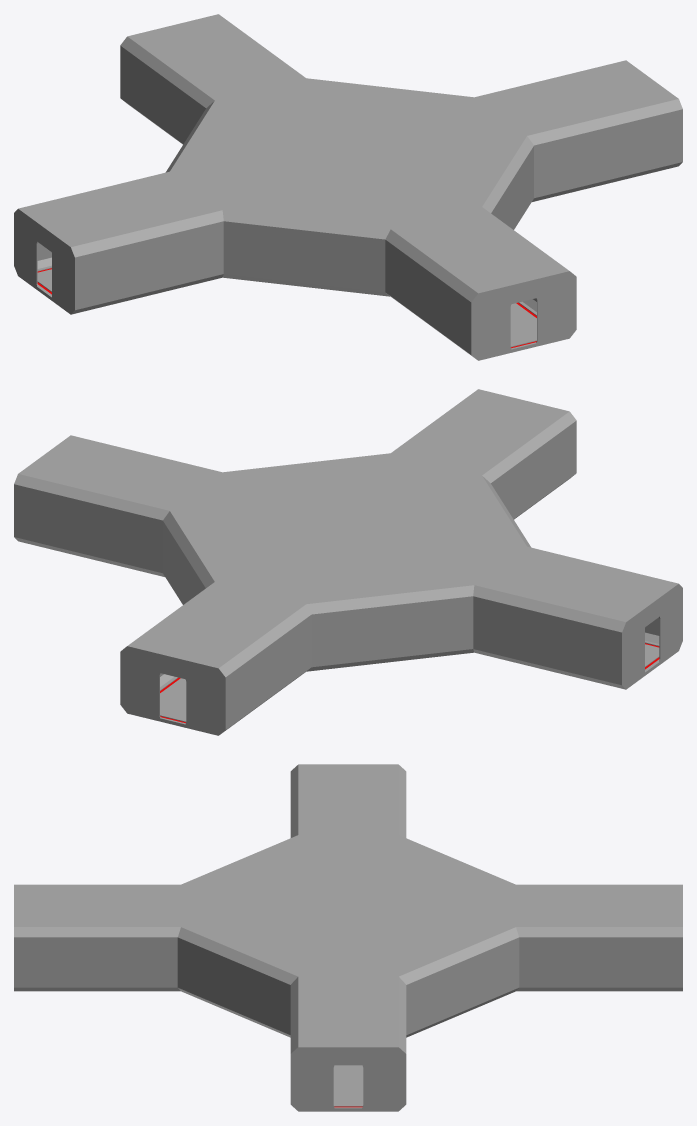
Rendered from HallwayCrossNESW.fbx.
3 renders of one model, top to bottom at view 1: azimuth 30°, elevation 25°; view 2: azimuth 150°, elevation 25°; view 3: azimuth 270°, elevation 25°, orthographic. The views are drawn at different scales.
Parts seen in each view (by area): view 1: HallwayCross; view 2: HallwayCross; view 3: HallwayCross.
Boxes of the visible parts, x1,y1,x2,y2 form: HallwayCross: (14,14,682,360); HallwayCross: (14,389,682,735); HallwayCross: (14,764,682,1111).
Size of the model in its own units: 3001 by 318 by 3001.
